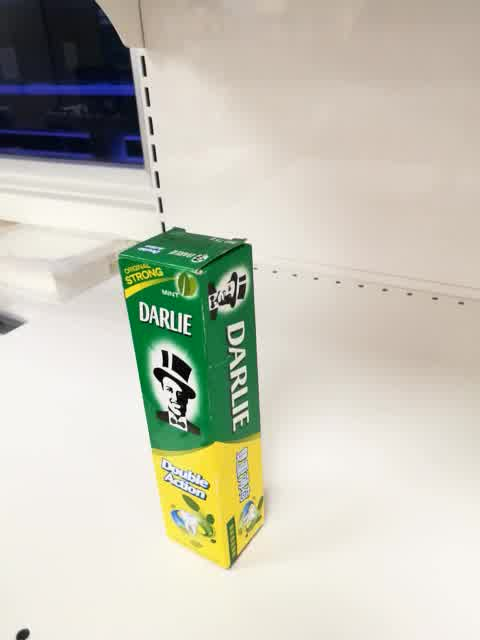toothpaste: (117, 226, 268, 574)
